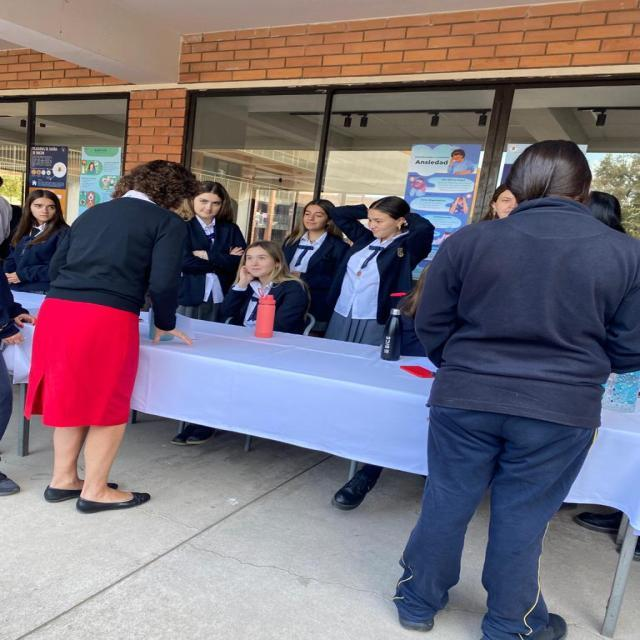person: (380, 117, 639, 640), (29, 142, 200, 514), (343, 196, 444, 344), (215, 238, 310, 330), (0, 178, 76, 292), (176, 176, 233, 326), (282, 188, 344, 280)
